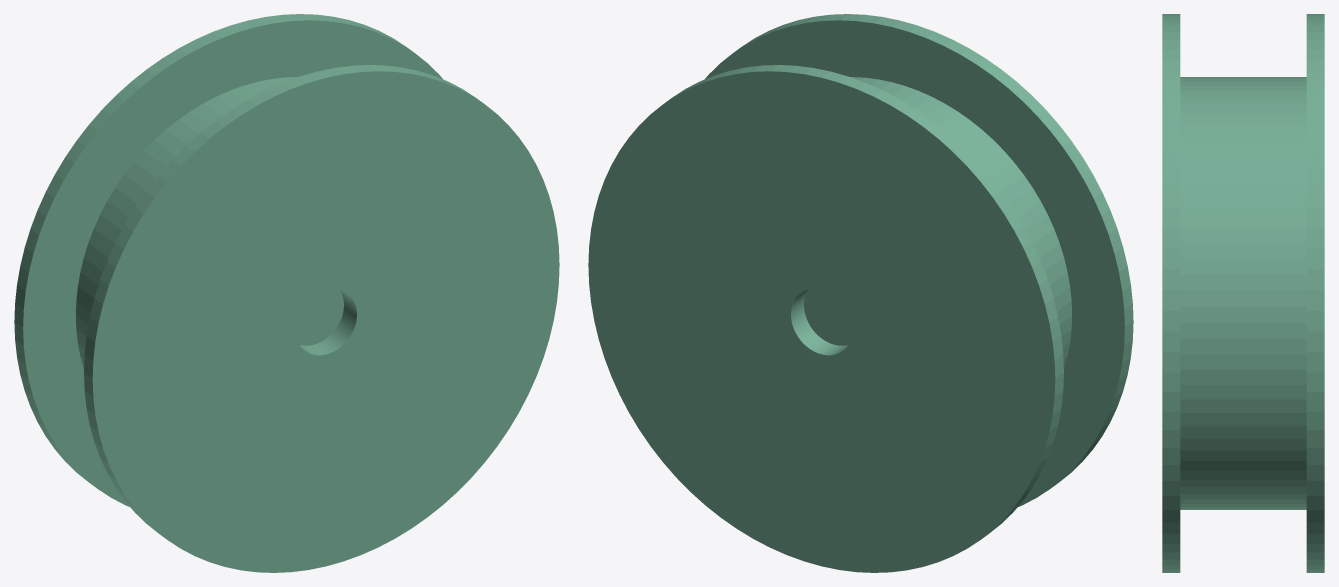
3 renders of one model, left to right at view 1: azimuth 30°, elevation 25°; view 2: azimuth 150°, elevation 25°; view 3: azimuth 270°, elevation 25°, orthographic. The views are drawn at different scales.
Visible parts, largest first — view 1: F10_spool_hub_8mm_bore; view 2: F10_spool_hub_8mm_bore; view 3: F10_spool_hub_8mm_bore.
Boxes of the visible parts, box(x1,y1,x2,y2) form: F10_spool_hub_8mm_bore: box(14, 14, 559, 572); F10_spool_hub_8mm_bore: box(588, 14, 1133, 572); F10_spool_hub_8mm_bore: box(1162, 14, 1324, 572).
Size of the model in its own units: 62 by 62 by 18.
